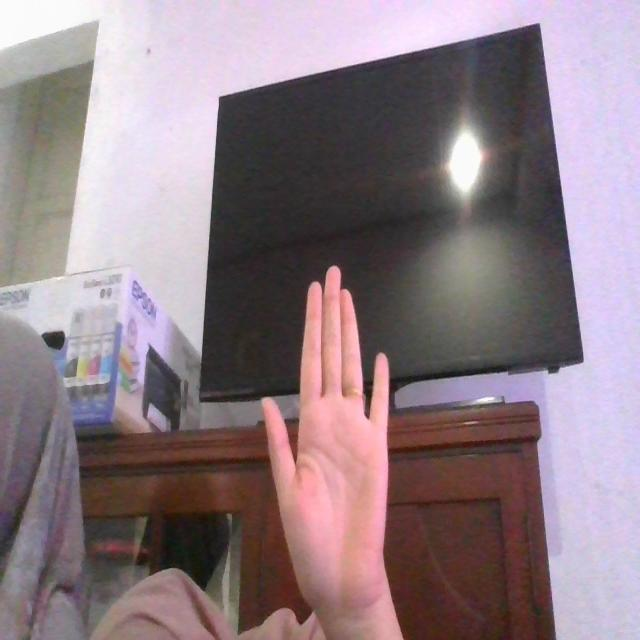hand: (259, 261, 392, 615)
